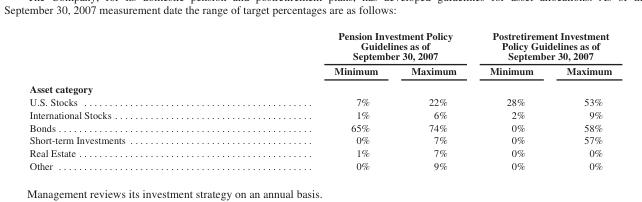table: (28, 29, 611, 171)
table column: (28, 29, 229, 171), (229, 29, 393, 171), (393, 29, 472, 171), (472, 29, 549, 171), (549, 29, 611, 171)
table column header: (28, 29, 611, 79)
table projected row header: (28, 79, 611, 95)
table row: (28, 29, 611, 63), (28, 63, 611, 79), (28, 79, 611, 95), (28, 95, 611, 108), (28, 120, 611, 133), (28, 133, 611, 146), (28, 146, 611, 159), (28, 108, 611, 120), (28, 159, 611, 171)
table spanning cell: (229, 29, 472, 63), (472, 29, 611, 63)
